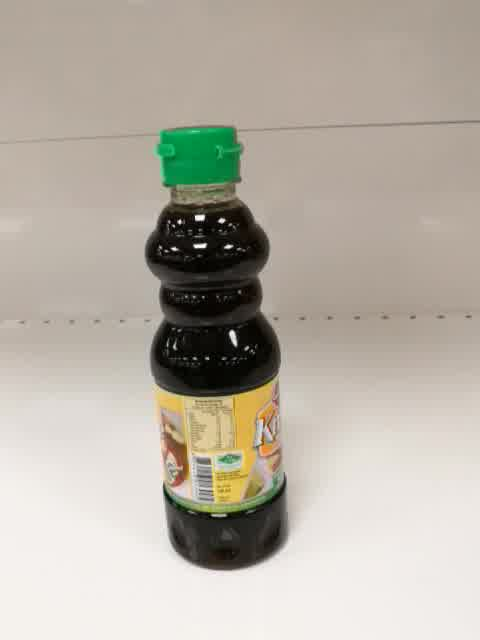cookingoil: (141, 126, 289, 570)
